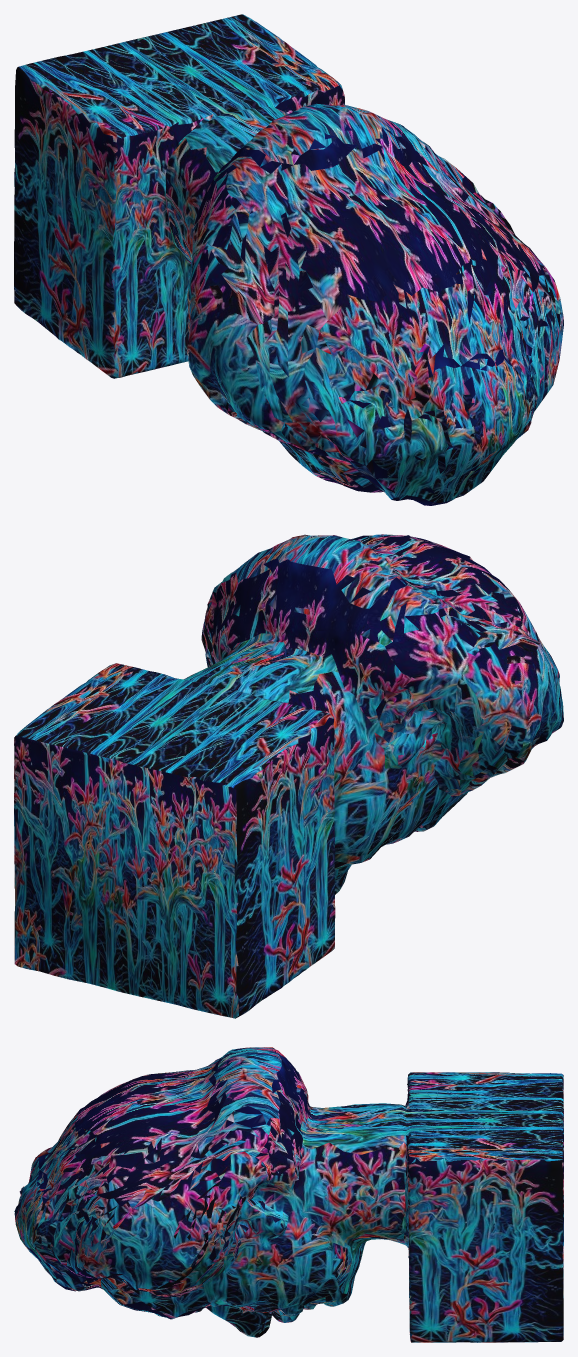
Rendered from tds_einstein.glb.
3 renders of one model, top to bottom at view 1: azimuth 30°, elevation 25°; view 2: azimuth 150°, elevation 25°; view 3: azimuth 270°, elevation 25°, orthographic. The views are drawn at different scales.
Visible parts, largest first — view 1: A; view 2: A; view 3: A.
Boxes of the visible parts, x1,y1,x2,y2 form: A: (14, 14, 563, 505); A: (14, 534, 563, 1018); A: (14, 1047, 563, 1342).
Bounding box in the file's own units: 1.09 × 1.13 × 2.
Materials: 1 (1 with a texture image).
